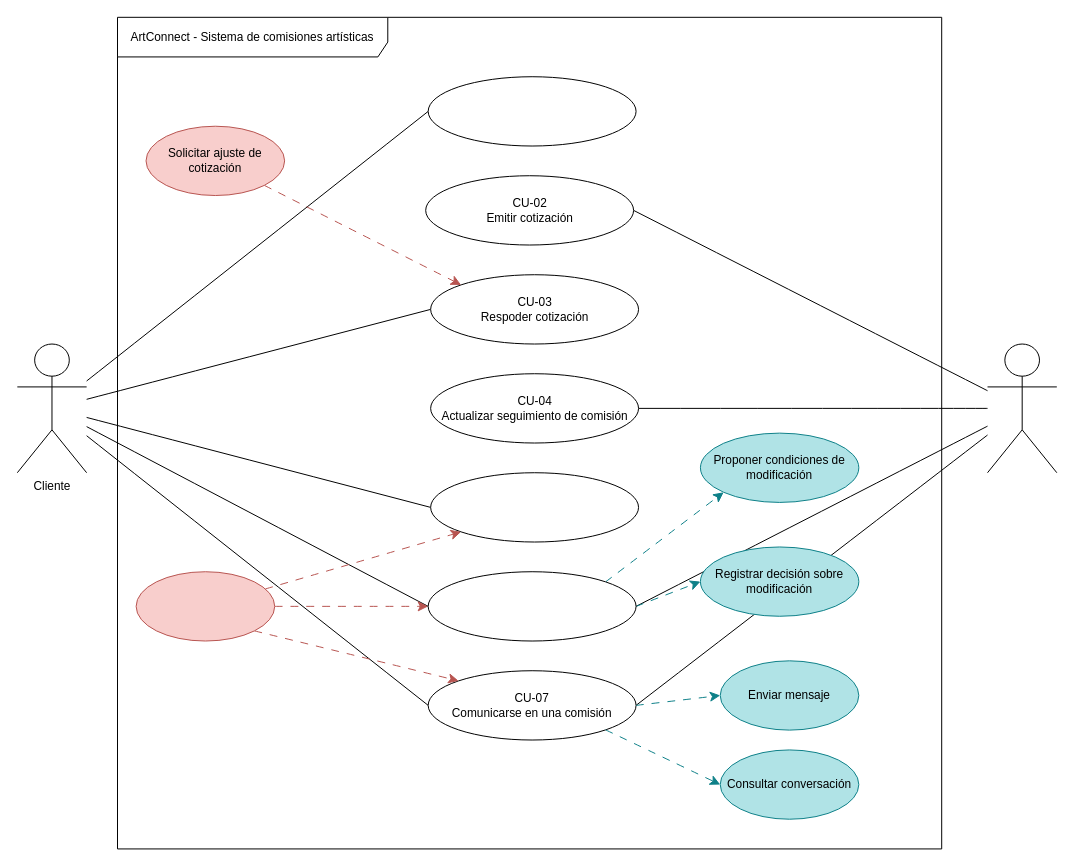
Image size: 1074x866. Some labels were removed from this diagram. The shapes that lost their labels are listed below. From the top down, each one's centre as x and y in pixels, then its label:
At pixel 531 111: "CU-01 Solicitar comisión artística".
At pixel 1022 408: "Artista".
At pixel 534 507: "CU-05 Consultar seguimiento de comisión".
At pixel 205 606: "Restringir acceso no autorizado".
At pixel 531 606: "CU-06 Gestionar modificación de comisión".
